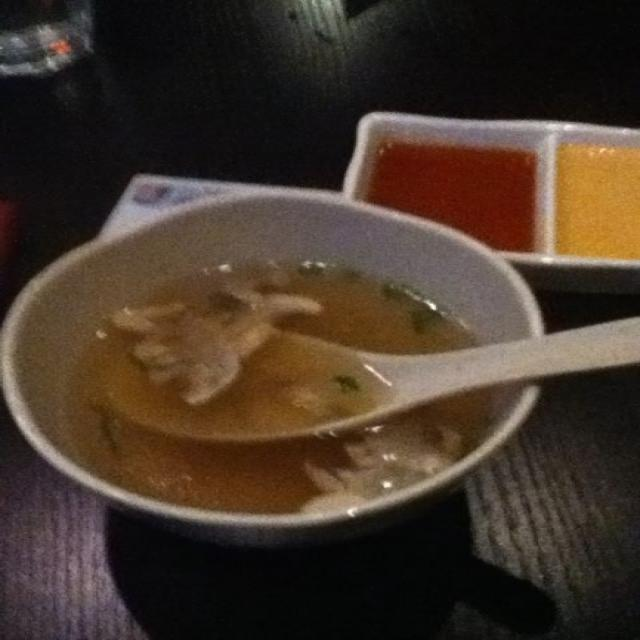汤锅炖物: (24, 178, 541, 544)
